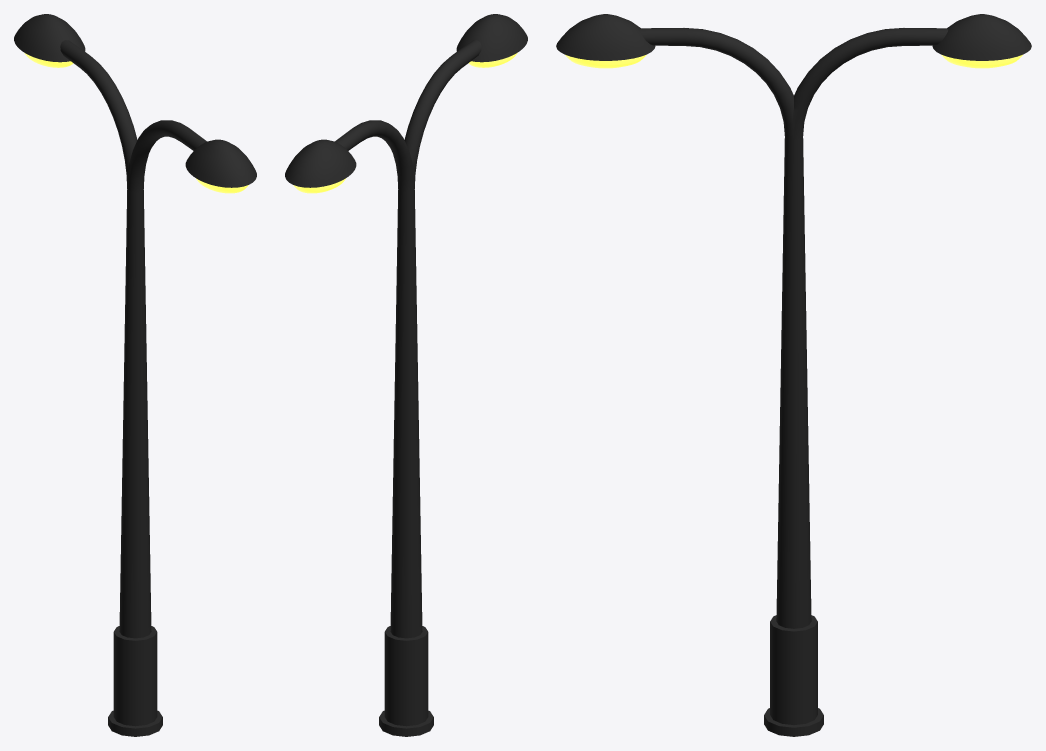
File: FarolaModernaRodonaDe2.fbx
3 renders of one model, left to right at view 1: azimuth 30°, elevation 25°; view 2: azimuth 150°, elevation 25°; view 3: azimuth 270°, elevation 25°, orthographic. The views are drawn at different scales.
Visible parts, largest first — view 1: FarolaModernaRodonaDe2; view 2: FarolaModernaRodonaDe2; view 3: FarolaModernaRodonaDe2.
Part boxes in pixels (x1=…): FarolaModernaRodonaDe2: x1=14, y1=14, x2=256, y2=736; FarolaModernaRodonaDe2: x1=285, y1=14, x2=527, y2=736; FarolaModernaRodonaDe2: x1=556, y1=14, x2=1031, y2=736.
Bounding box in the file's own units: 30.41 × 339 × 206.
